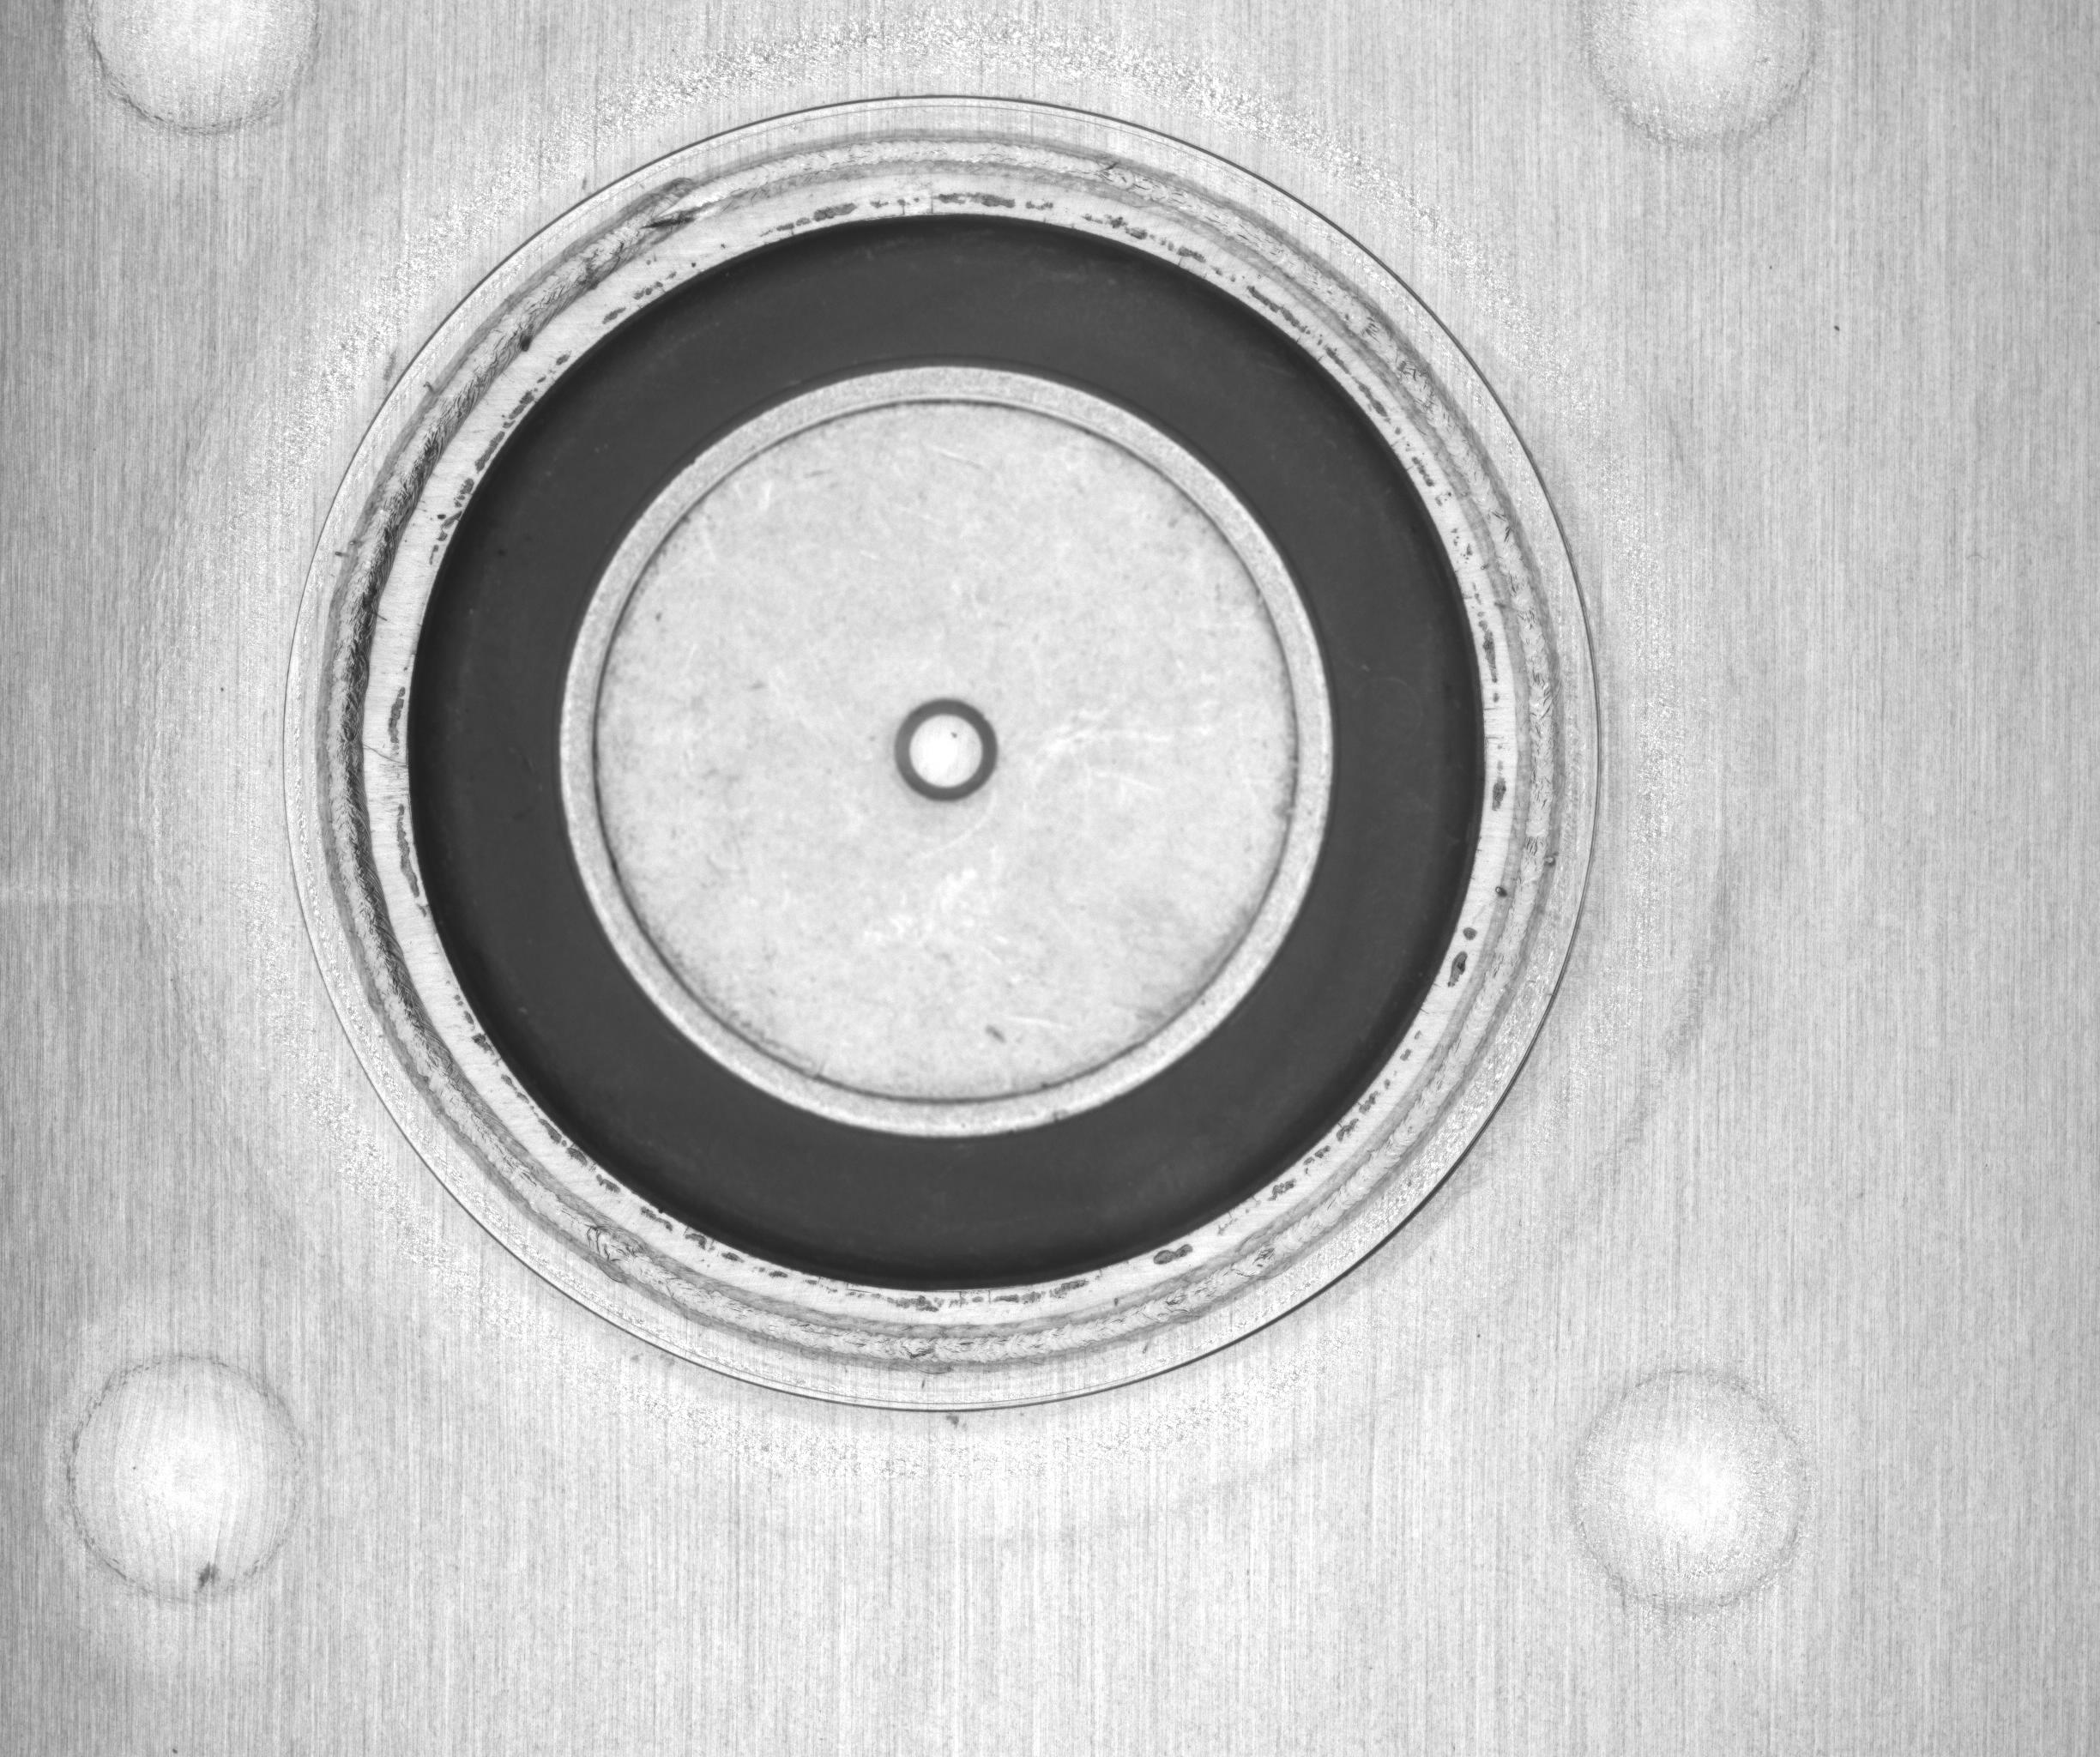normal: (258, 75, 1685, 1438)
